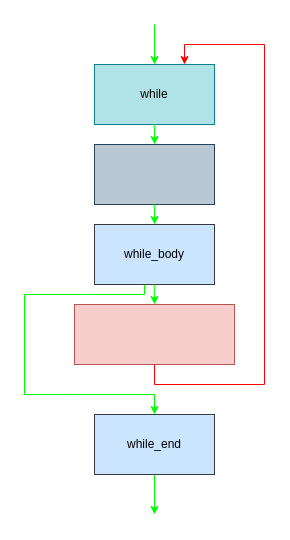
Some shapes in this 290 by 540 pixel diagram are drawn without their labels. The centre of each missing label's shape, as x and y in pixels:
"expression" goes at [154,174].
"while body statements" goes at [154,334].
